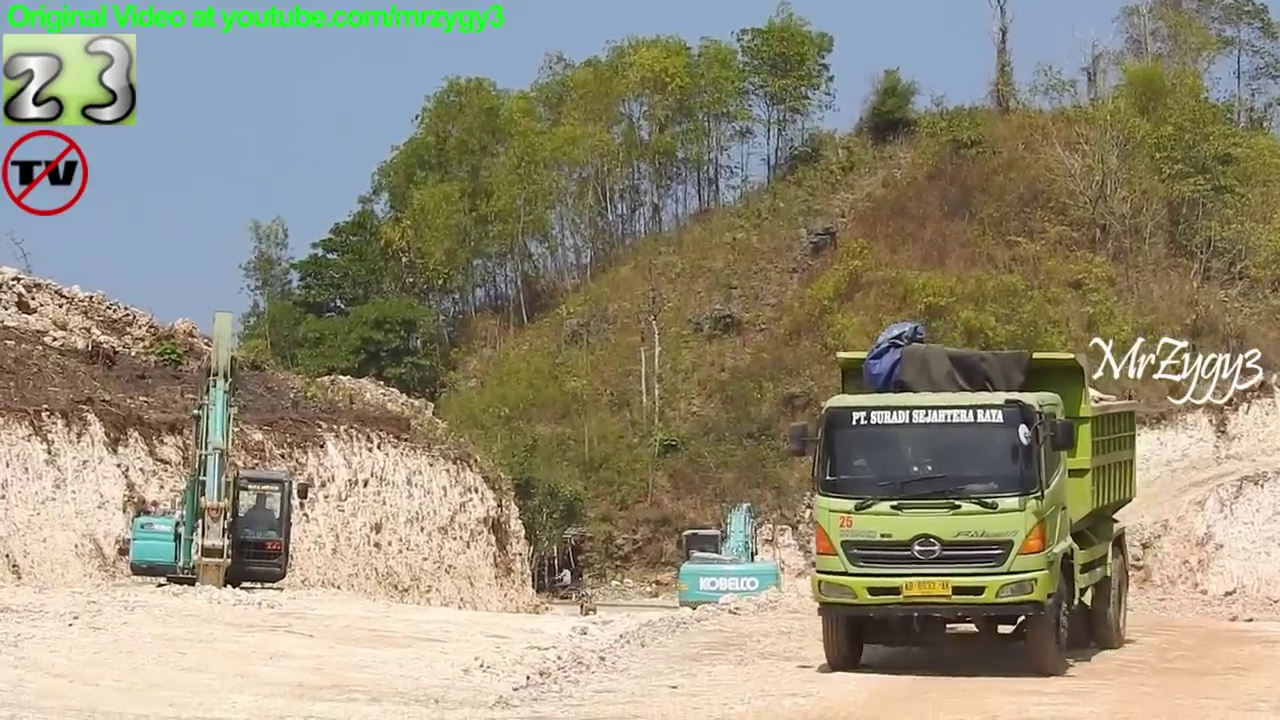excavator: (122, 306, 315, 638), (671, 498, 786, 636)
truck: (781, 343, 1144, 679)
